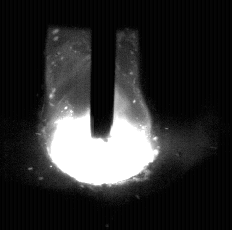arame: (90, 0, 114, 143)
poca: (47, 0, 159, 230)
